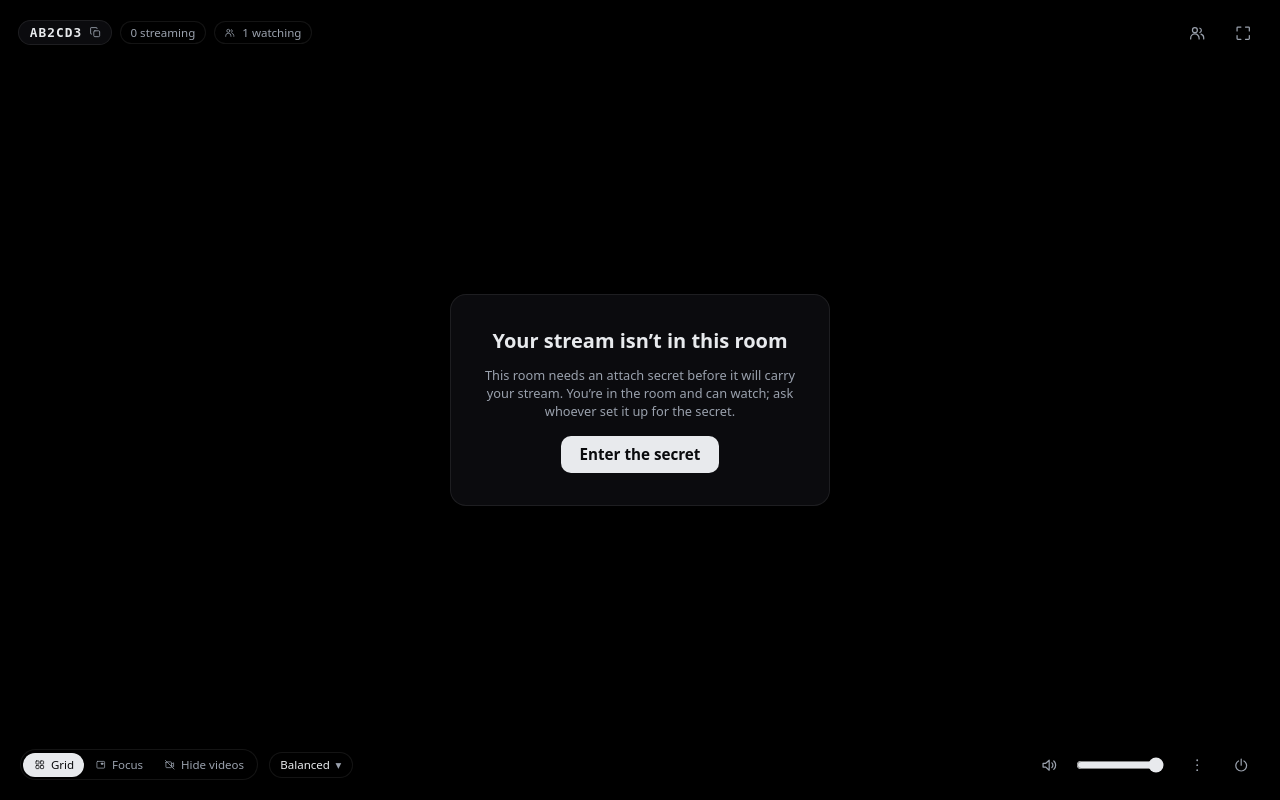
Test case: a gated static room that refused the attach grant (D8) › says so instead of failing silently, and the typed secret re-dials with an attach grant
Expected: the heading "Your stream isn’t in this room" is shown, [492, 327, 788, 354]
Expected: the text "needs an attach secret" is shown, [485, 366, 795, 420]
Click the button "Enter the secret" at x=640, y=454, box [561, 436, 719, 473]
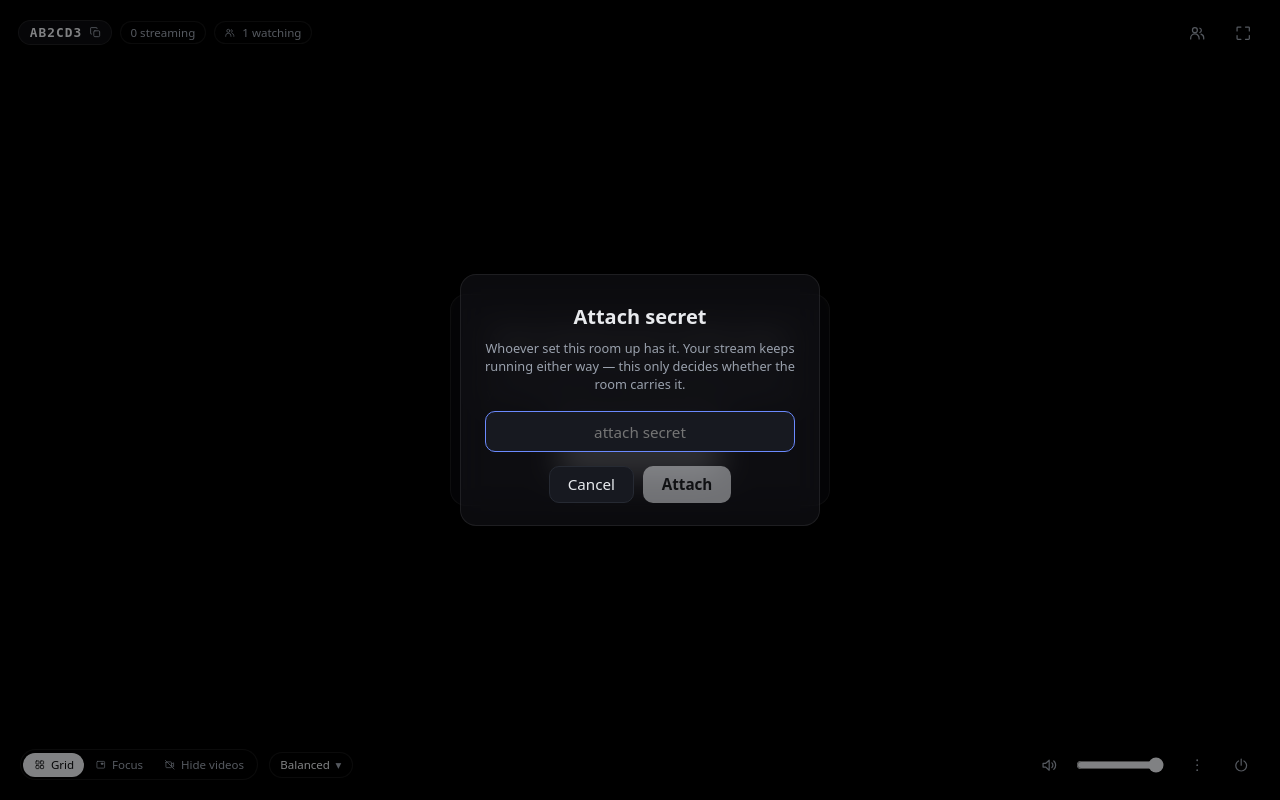
Type " hunter2 " into the password field labelled "attach secret" at x=640, y=432, box [485, 411, 795, 452]
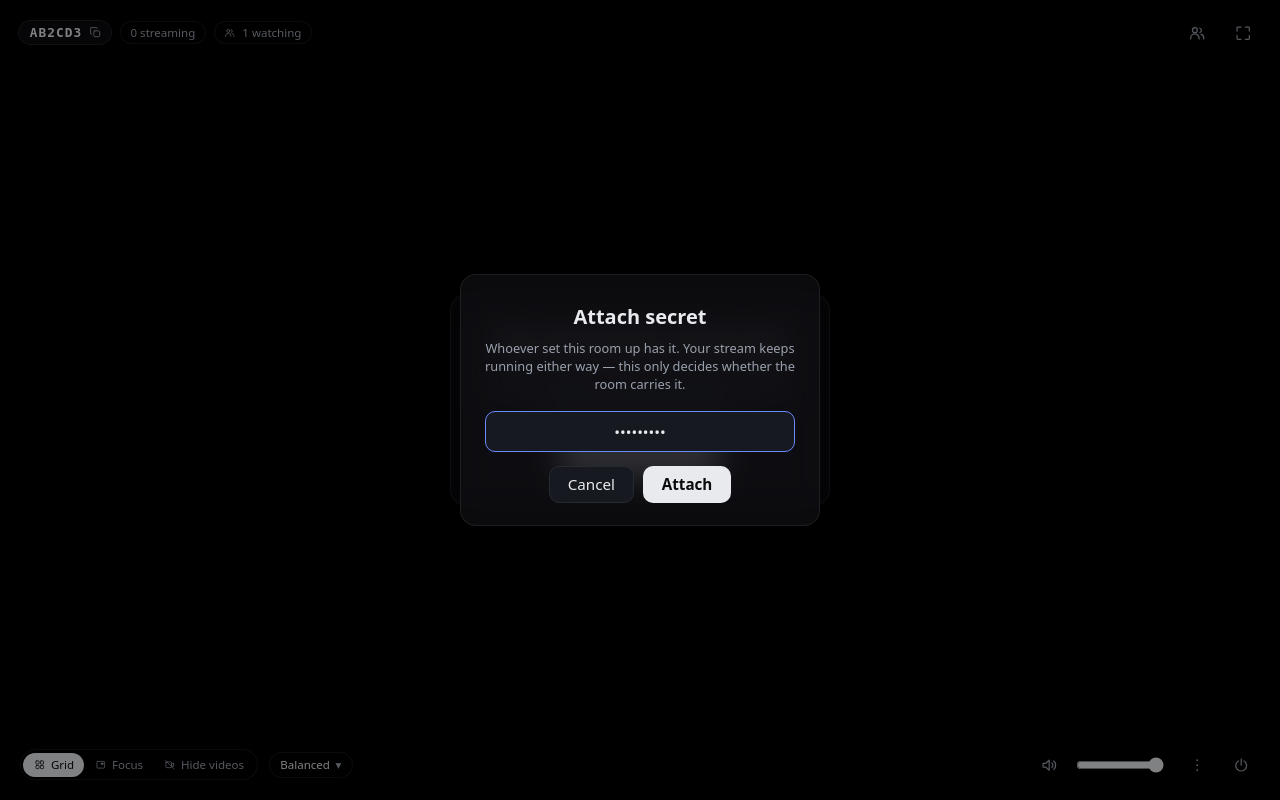
Click the button "Attach" at x=687, y=485, box [643, 466, 731, 503]
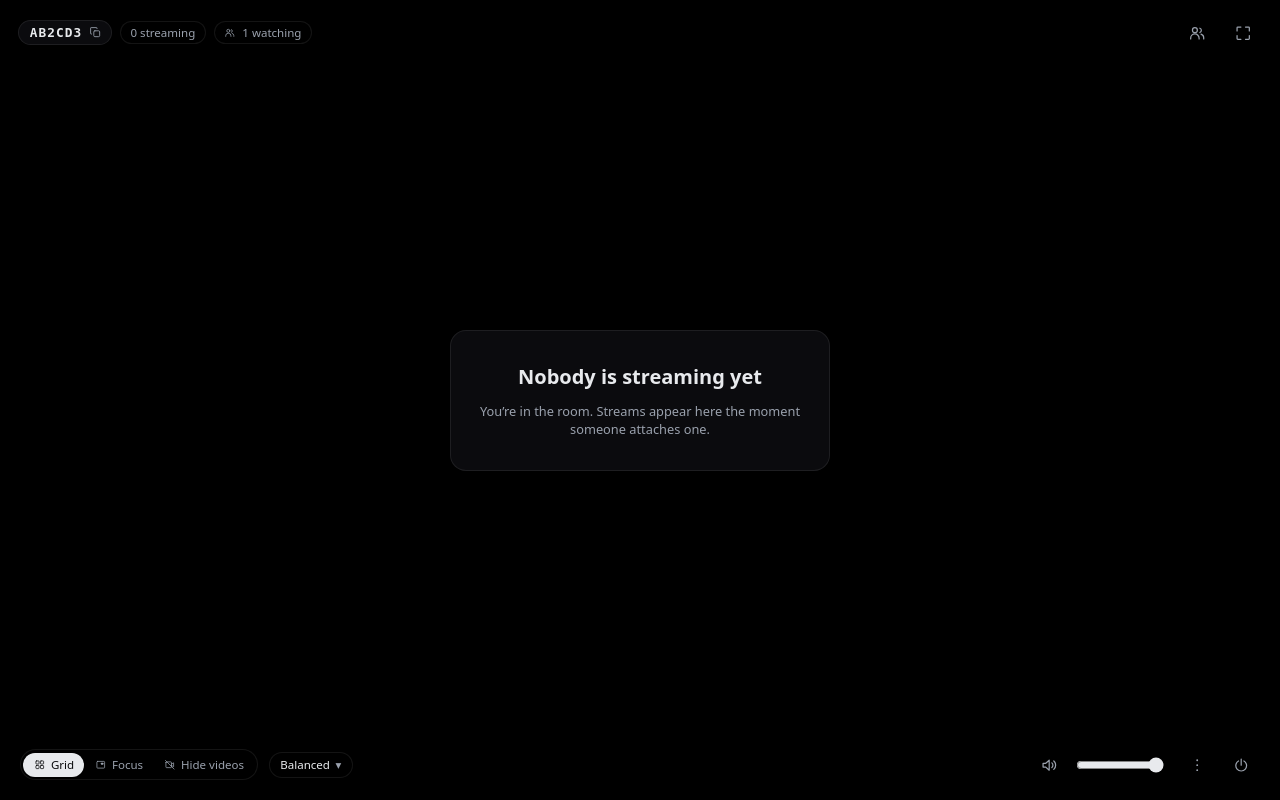
Result: the heading "Your stream isn’t in this room" is gone
